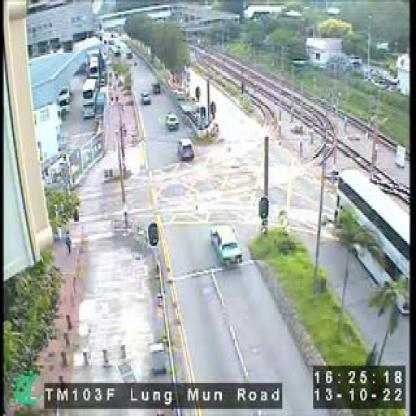Bus: (337, 169, 409, 312), (83, 78, 99, 119)
Car: (210, 224, 244, 266), (178, 136, 195, 162), (166, 110, 178, 131), (142, 90, 152, 104)
